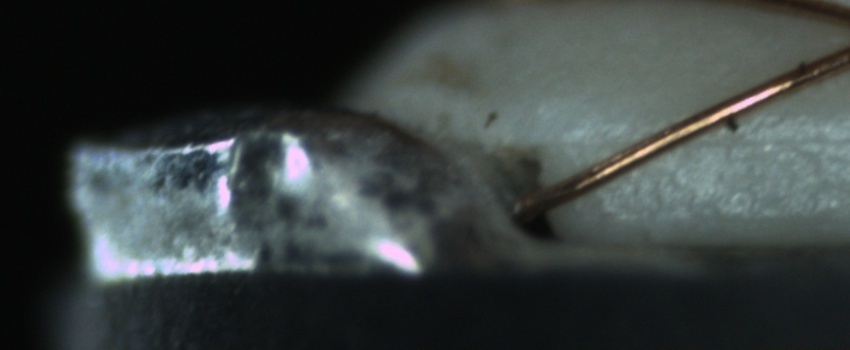DL: (619, 111, 849, 167)
